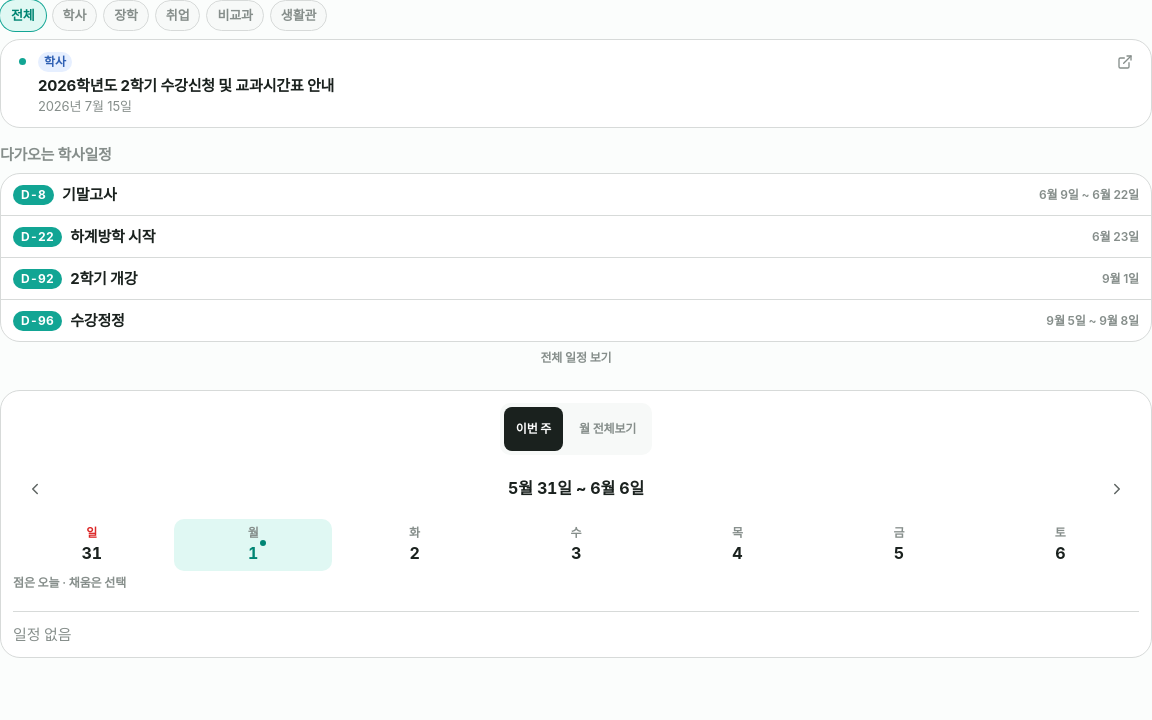
Test: AcademicNoticesTab — 전체 일정 보기 모달 › 5개보다 많으면 "전체 일정 보기" 버튼이 보이고, 탭하면 나머지 항목도 모달에 보인다
Expected: the text "중간고사" is not shown
Click the button "전체 일정 보기". click: (576, 358)
box: 0,342 -> 1151,374
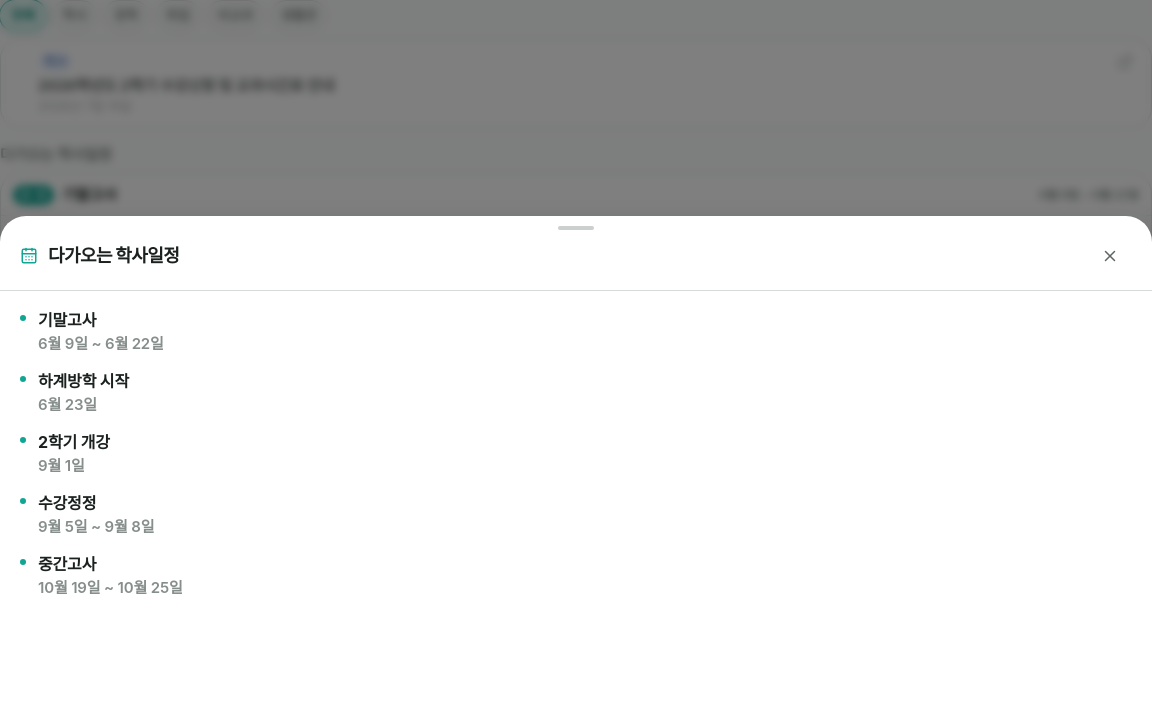
Result: the text "중간고사" is shown at 38,554 -> 96,574
